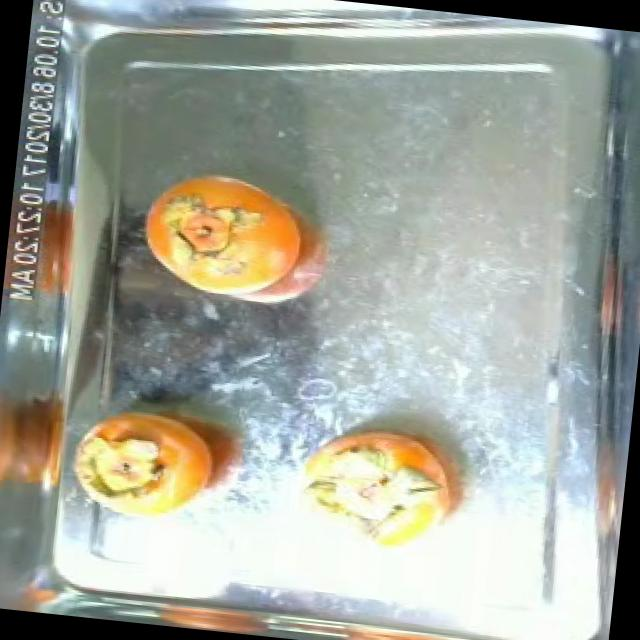Fruit: (120, 154, 328, 316), (0, 378, 69, 509)
